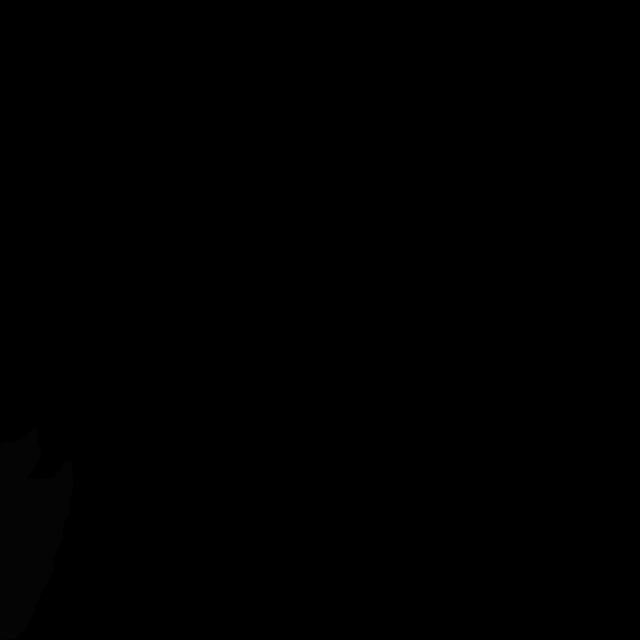soft_plastic: (0, 428, 74, 640)
